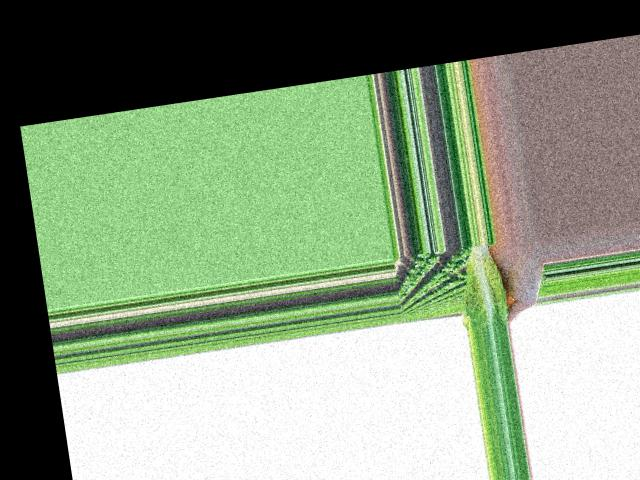lettuce: (454, 241, 509, 329)
